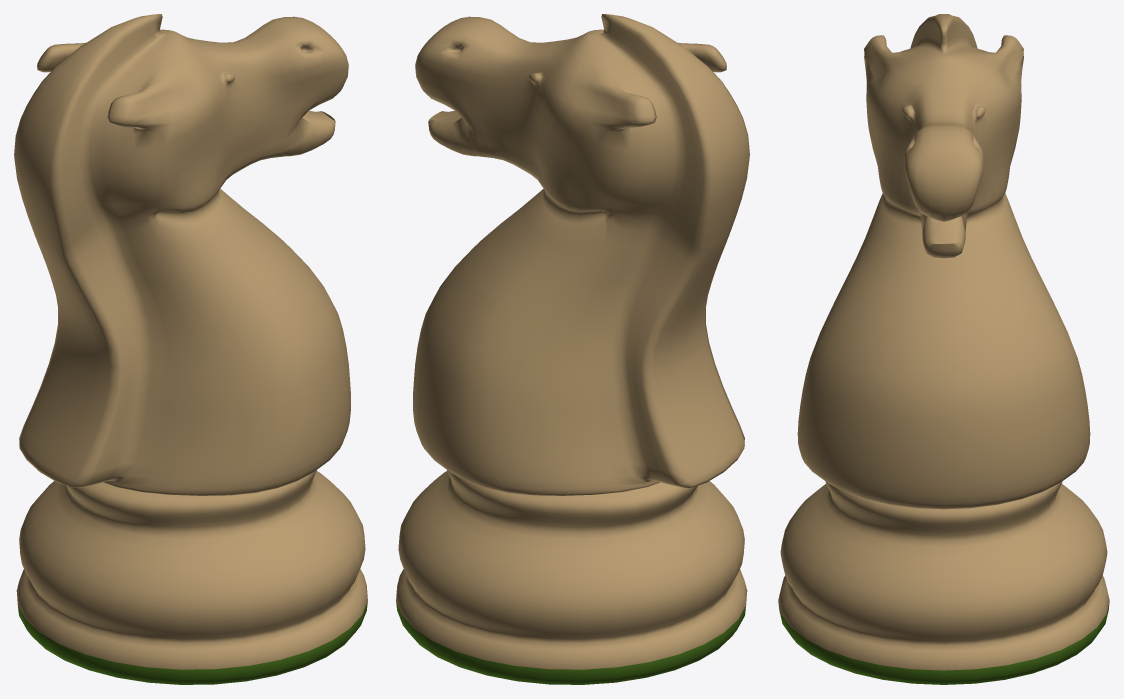
The model's file is whitehorse.glb.
3 views of the same model, side by side, from view 1: azimuth 30°, elevation 25°; view 2: azimuth 150°, elevation 25°; view 3: azimuth 270°, elevation 25° (orthographic). The views are drawn at different scales.
Visible parts, largest first — view 1: whitehorse; view 2: whitehorse; view 3: whitehorse.
Boxes of the visible parts, x1=… form: whitehorse: x1=14, y1=14, x2=367, y2=684; whitehorse: x1=396, y1=14, x2=749, y2=684; whitehorse: x1=778, y1=14, x2=1109, y2=684.
Size of the model in its own units: 0.6381 by 1.21 by 0.6148.
